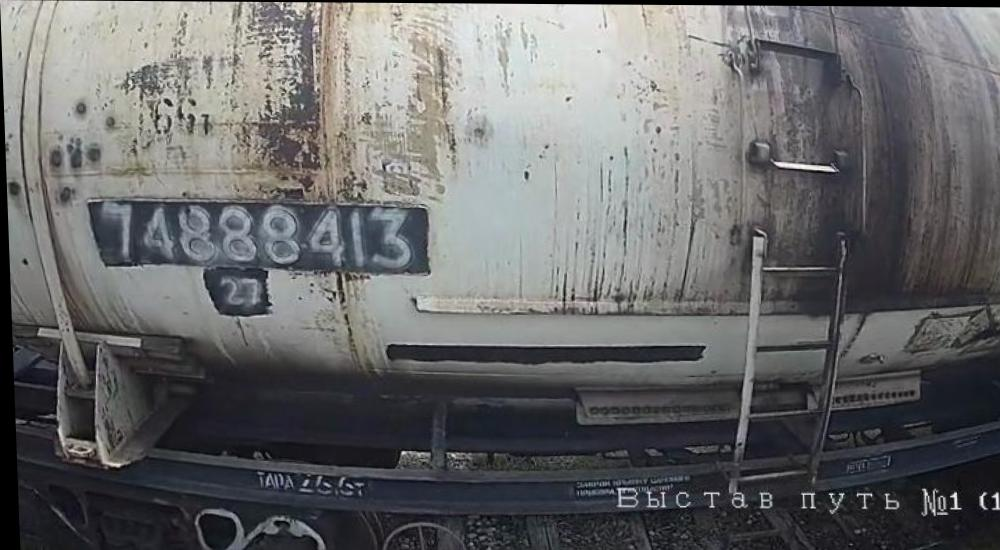Wagon-number: (95, 202, 418, 268)
